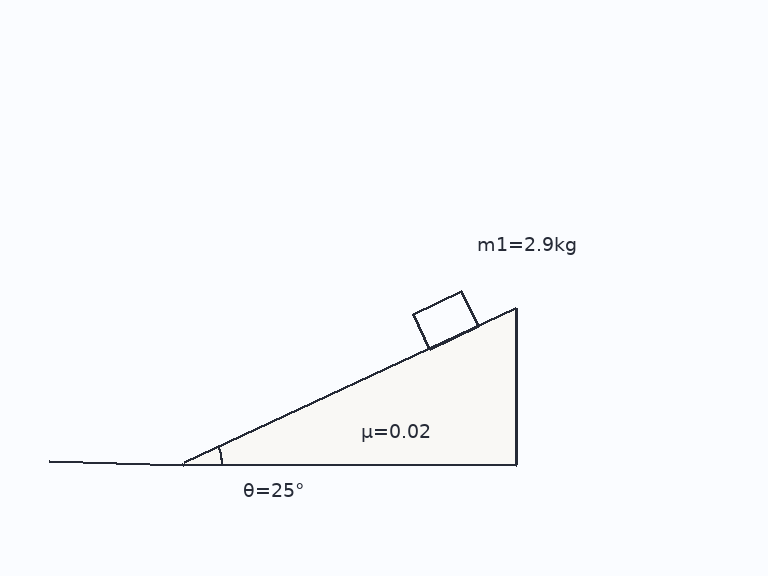block: (411, 289, 480, 351)
ramp: (180, 306, 518, 466)
